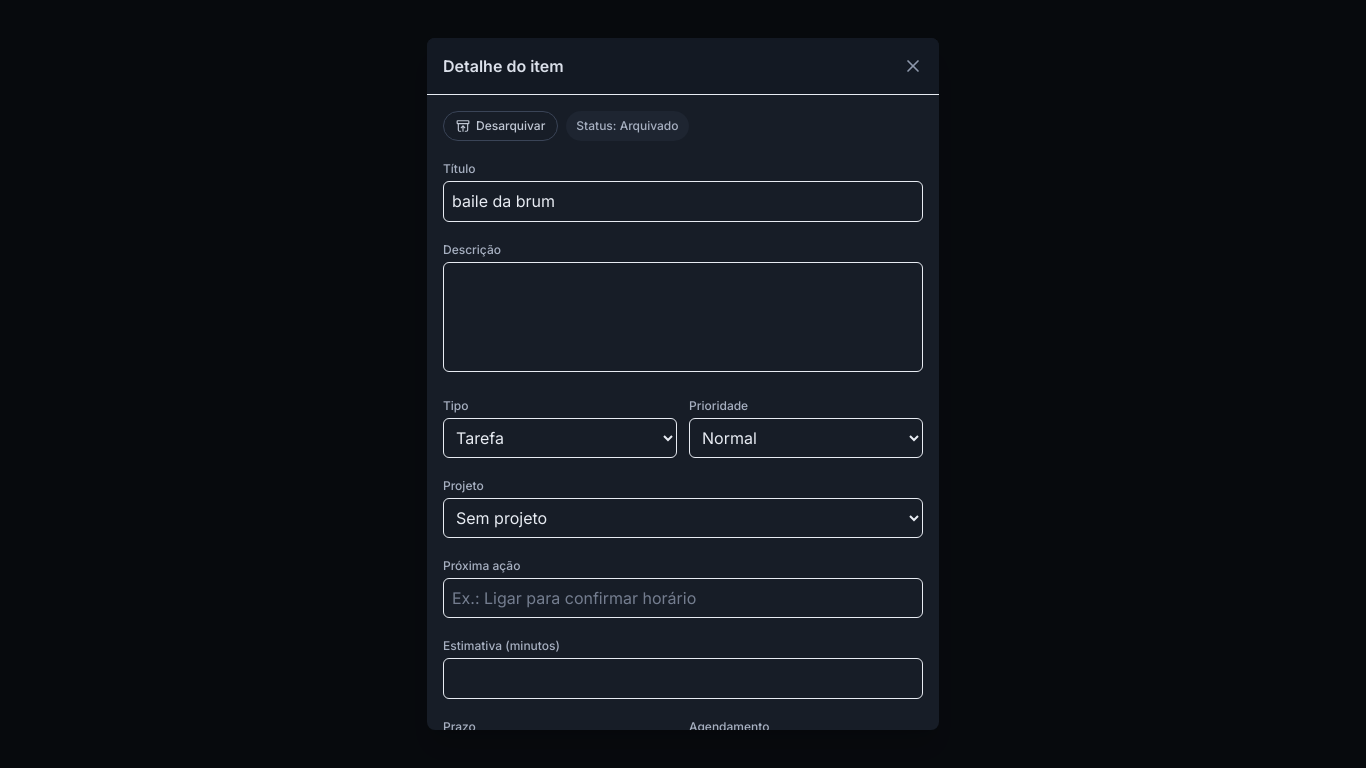
ItemDetailModal › desarquiva a tarefa
Expected: the field labelled "Título" is shown, [443, 181, 923, 222]
Click the button "Desarquivar": (501, 126) [443, 111, 558, 141]
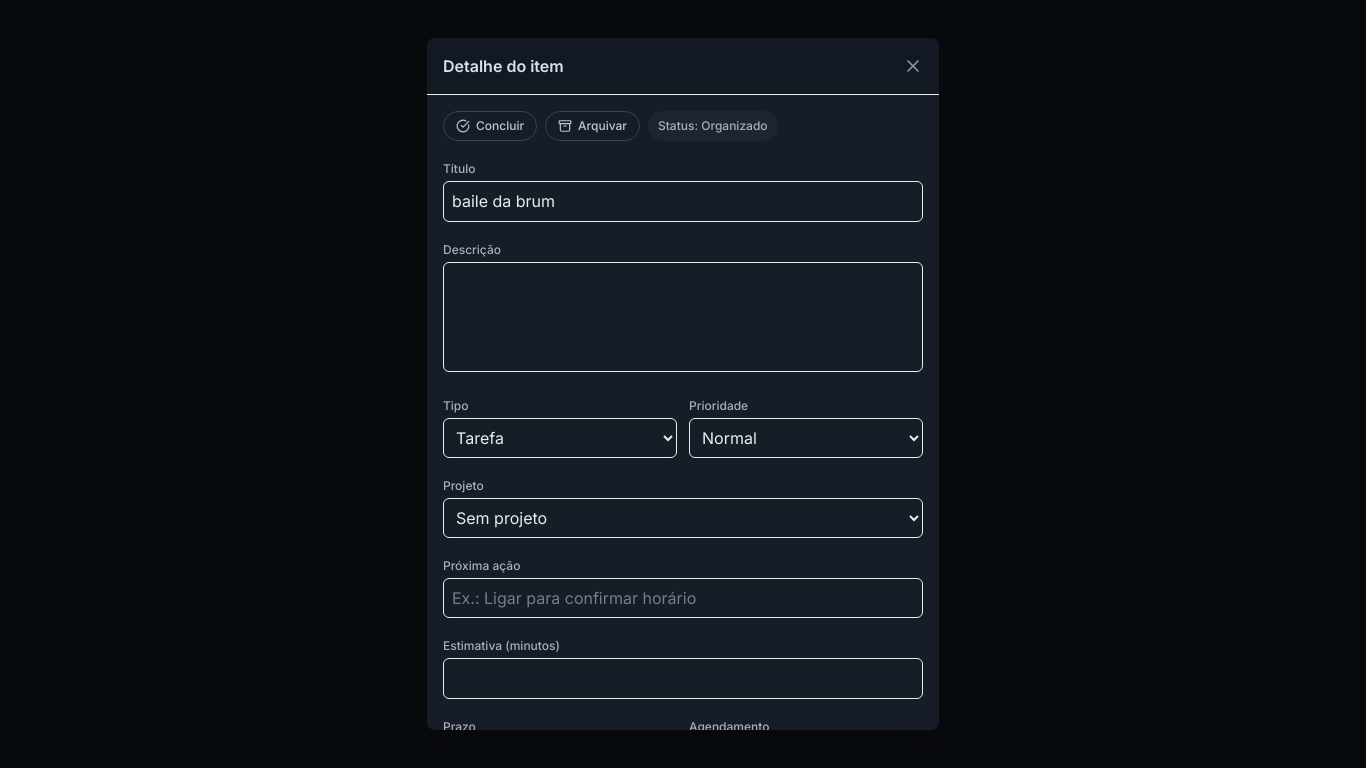
Expected: the text "Status: Organizado" is shown, [648, 111, 778, 141]
